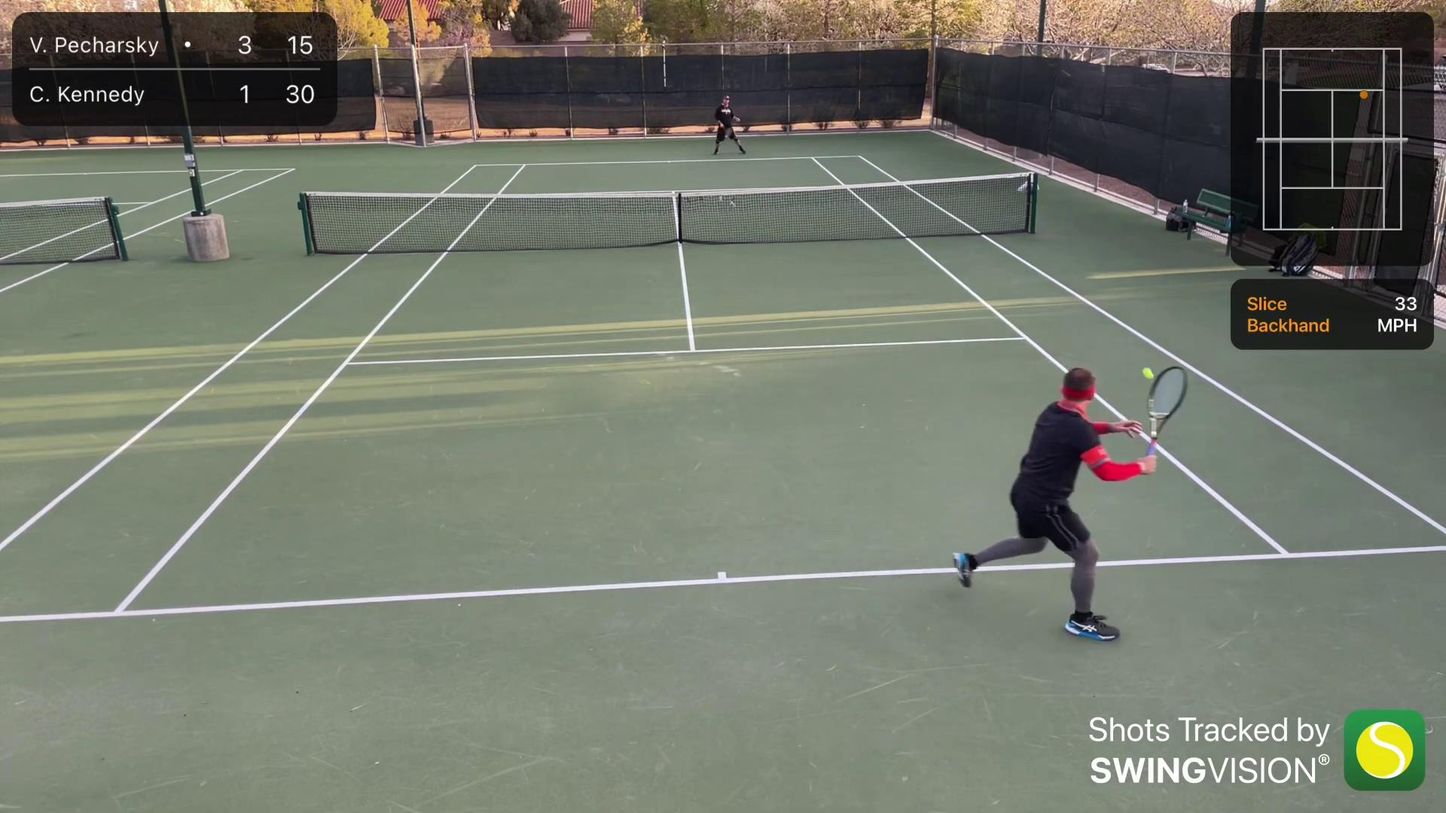ball: (1138, 367, 1156, 381), (1082, 55, 1087, 62)
